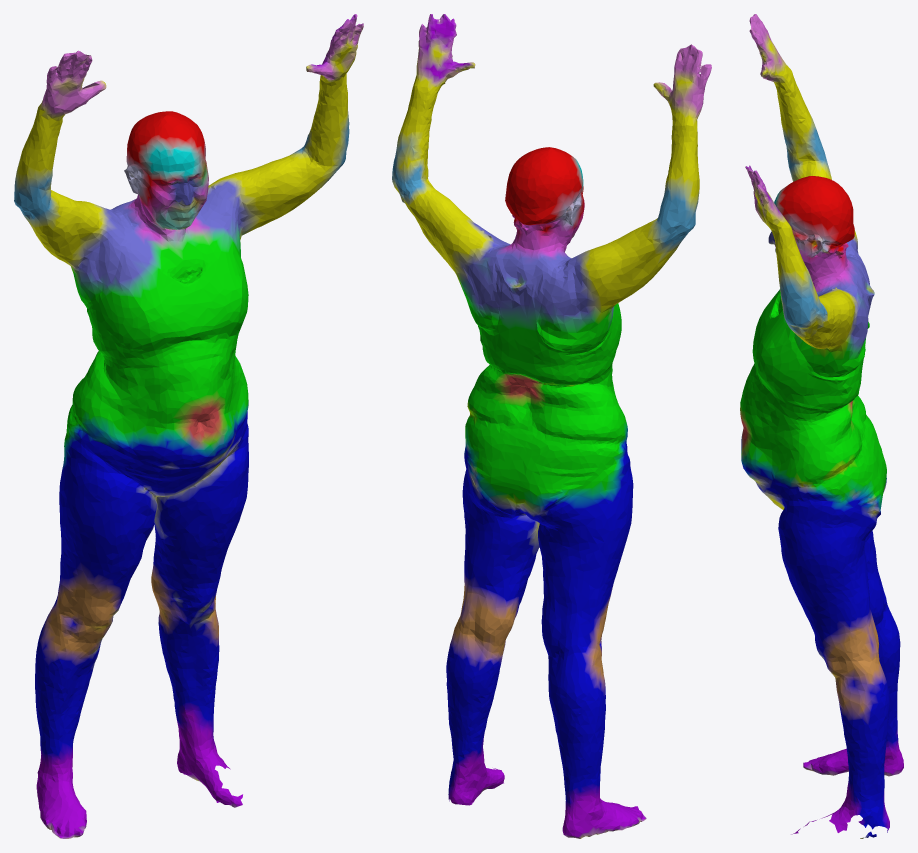
Rendered from 99_output_fine_grained.glb.
The picture shows the model from 3 angles, left to right: view 1: azimuth 30°, elevation 25°; view 2: azimuth 150°, elevation 25°; view 3: azimuth 270°, elevation 25°; orthographic projection. The views are drawn at different scales.
Parts seen in each view (by area): view 1: 99_output_fine_grained.obj; view 2: 99_output_fine_grained.obj; view 3: 99_output_fine_grained.obj.
Boxes of the visible parts, left/top/right/bottom form: 99_output_fine_grained.obj: left=14, top=14, right=363, bottom=838; 99_output_fine_grained.obj: left=392, top=14, right=711, bottom=838; 99_output_fine_grained.obj: left=740, top=14, right=903, bottom=838.
Size of the model in its own units: 0.7944 by 1.91 by 0.3829.
